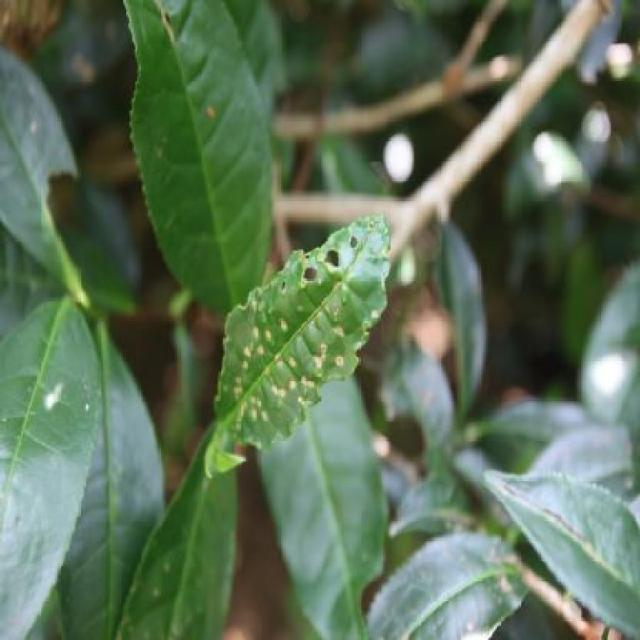Tea Mosquito bug infested leaf: (212, 206, 394, 446)
